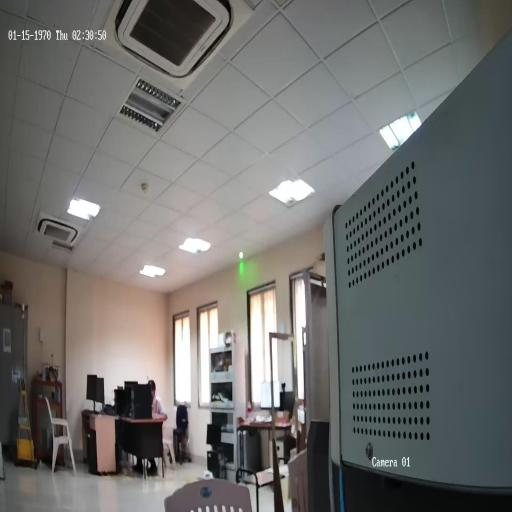laser: (239, 252, 244, 259)
